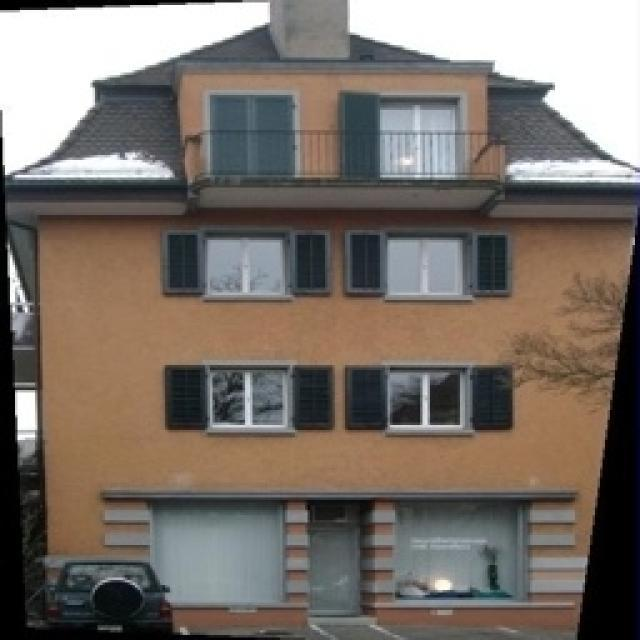Window: (395, 502, 520, 600), (162, 502, 282, 602), (207, 95, 295, 173), (380, 98, 460, 178), (388, 235, 462, 295), (208, 237, 282, 295), (210, 370, 285, 425), (388, 370, 462, 425)
